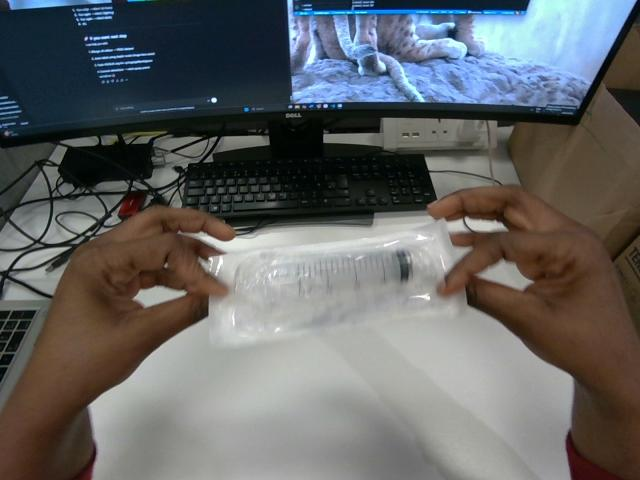syringe: (207, 220, 465, 344)
